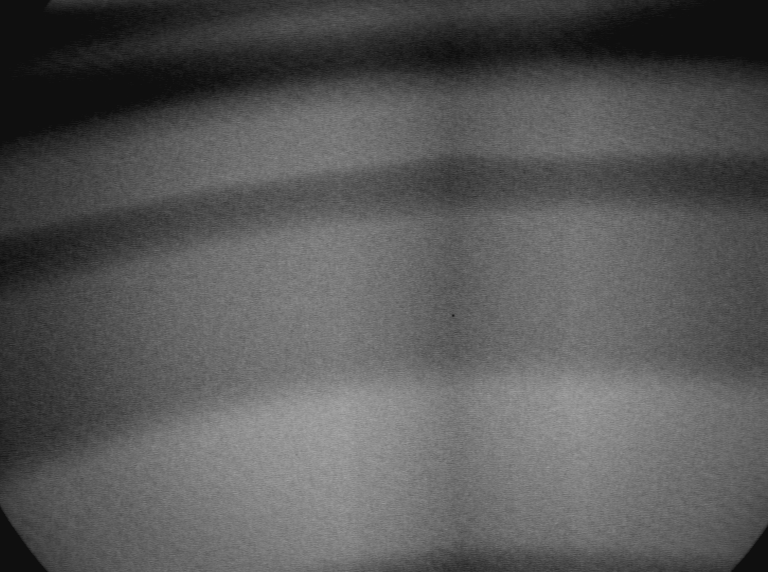defect: (385, 1, 554, 561)
